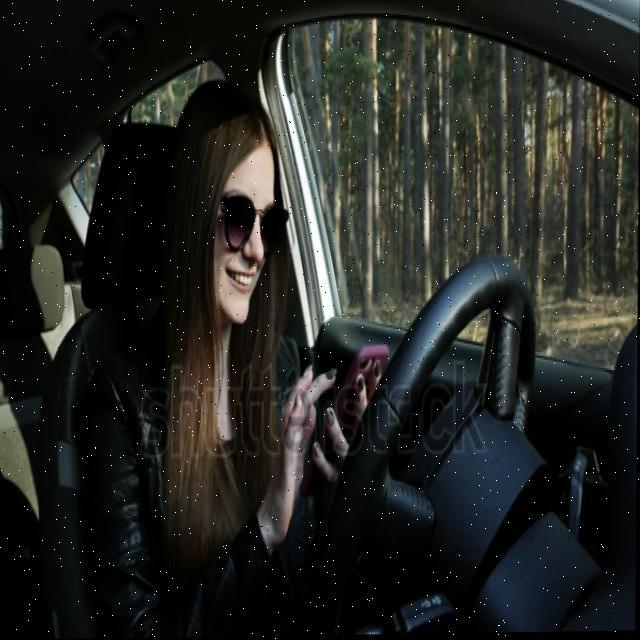PhoneCall: (302, 344, 390, 498)
